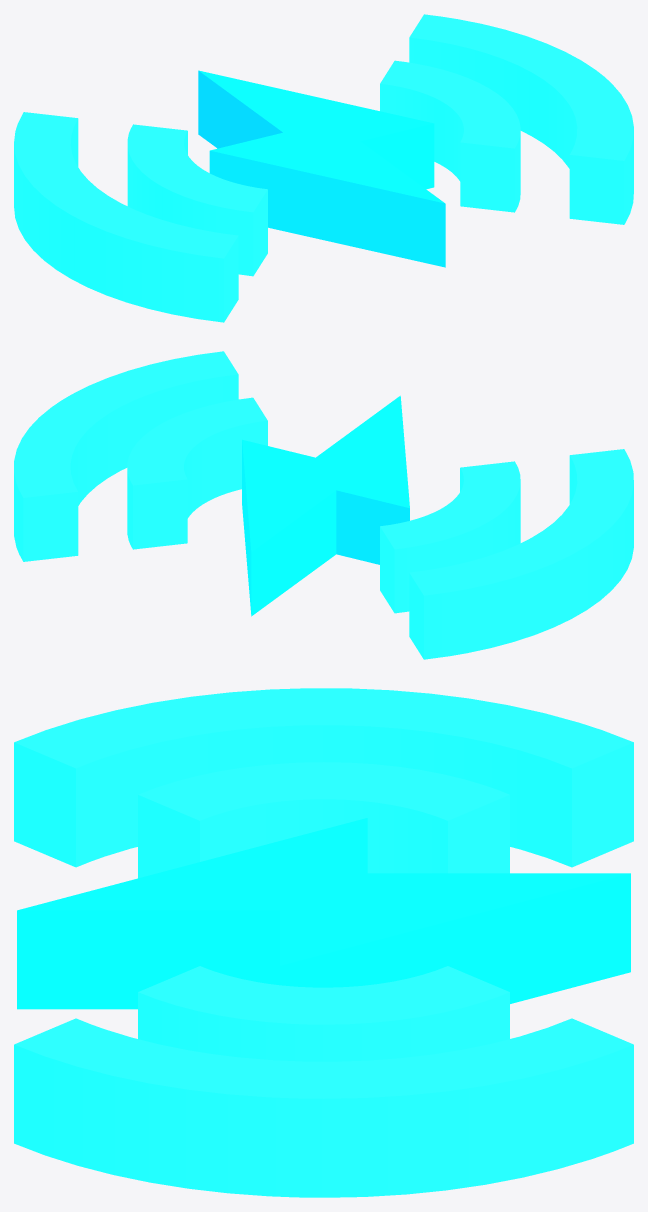
File: charge.glb
3 views of the same model, one above another, from view 1: azimuth 30°, elevation 25°; view 2: azimuth 150°, elevation 25°; view 3: azimuth 270°, elevation 25° (orthographic). The views are drawn at different scales.
Visible parts, largest first — view 1: ChargeSign; view 2: ChargeSign; view 3: ChargeSign.
Boxes of the visible parts, x1,y1,x2,y2 form: ChargeSign: [14, 14, 633, 322]; ChargeSign: [14, 351, 633, 659]; ChargeSign: [14, 688, 633, 1197].
Size of the model in its own units: 0.2669 by 0.03 by 0.1703.
